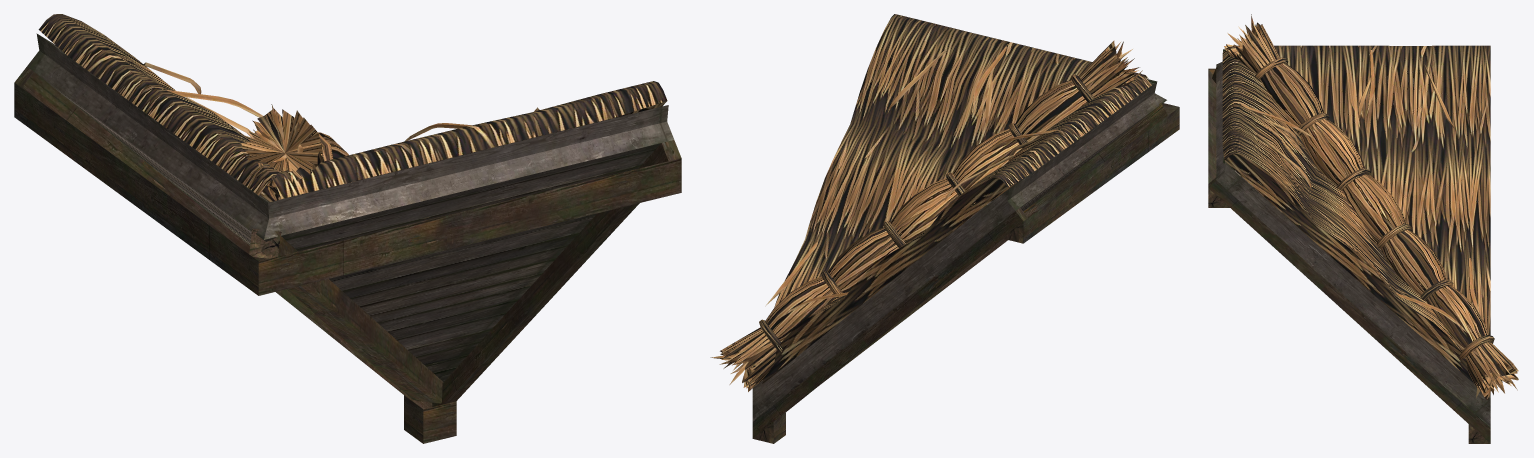
The picture shows the model from 3 angles, left to right: view 1: azimuth 30°, elevation 25°; view 2: azimuth 150°, elevation 25°; view 3: azimuth 270°, elevation 25°; orthographic projection. The views are drawn at different scales.
Parts seen in each view (by area): view 1: SM_BB_T1_Extended_Roof_Large_Valley_LOD0; view 2: SM_BB_T1_Extended_Roof_Large_Valley_LOD0; view 3: SM_BB_T1_Extended_Roof_Large_Valley_LOD0.
Part boxes in pixels (bbox=[...]): SM_BB_T1_Extended_Roof_Large_Valley_LOD0: bbox=[14, 14, 681, 443]; SM_BB_T1_Extended_Roof_Large_Valley_LOD0: bbox=[710, 14, 1179, 443]; SM_BB_T1_Extended_Roof_Large_Valley_LOD0: bbox=[1208, 14, 1518, 443].
Size of the model in its own units: 3.54 by 4.04 by 3.52.
Materials: 3 (3 with a texture image).
